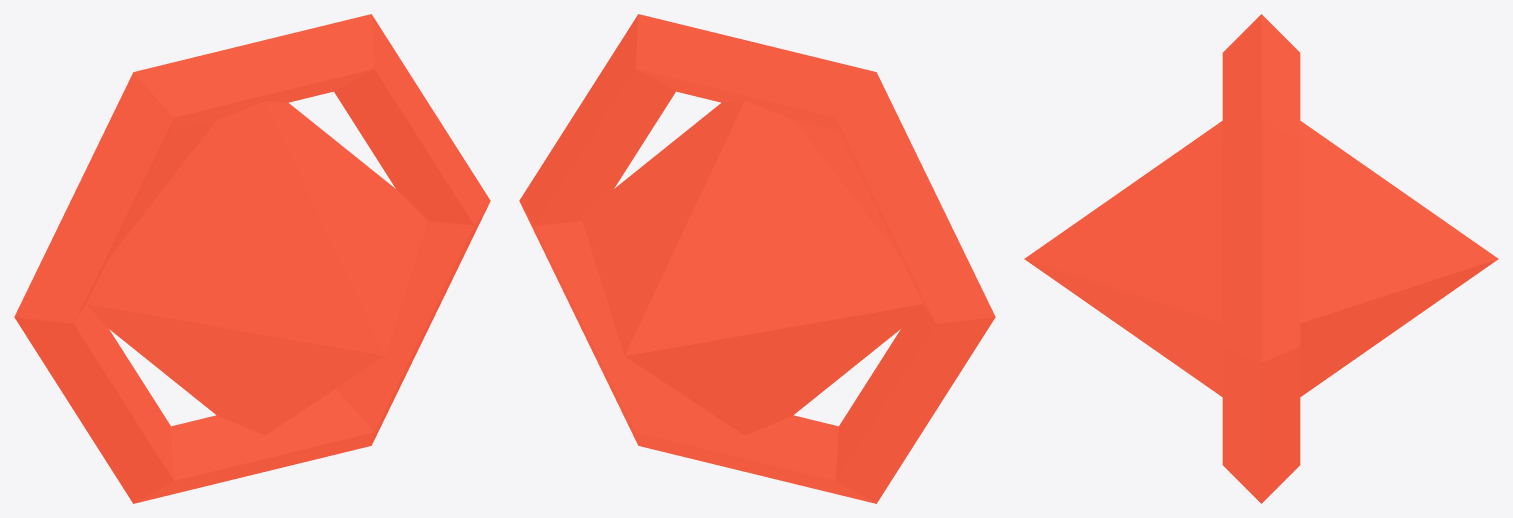
Rendered from fx_hit_single.glb.
The picture shows the model from 3 angles, left to right: view 1: azimuth 30°, elevation 25°; view 2: azimuth 150°, elevation 25°; view 3: azimuth 270°, elevation 25°; orthographic projection. The views are drawn at different scales.
Visible parts, largest first — view 1: fx_hit_single; view 2: fx_hit_single; view 3: fx_hit_single.
Part boxes in pixels (<box>): fx_hit_single: <box>14,14,490,503</box>; fx_hit_single: <box>519,14,995,503</box>; fx_hit_single: <box>1024,14,1498,503</box>.
Bounding box in the file's own units: 0.4444 × 0.3849 × 0.429.
